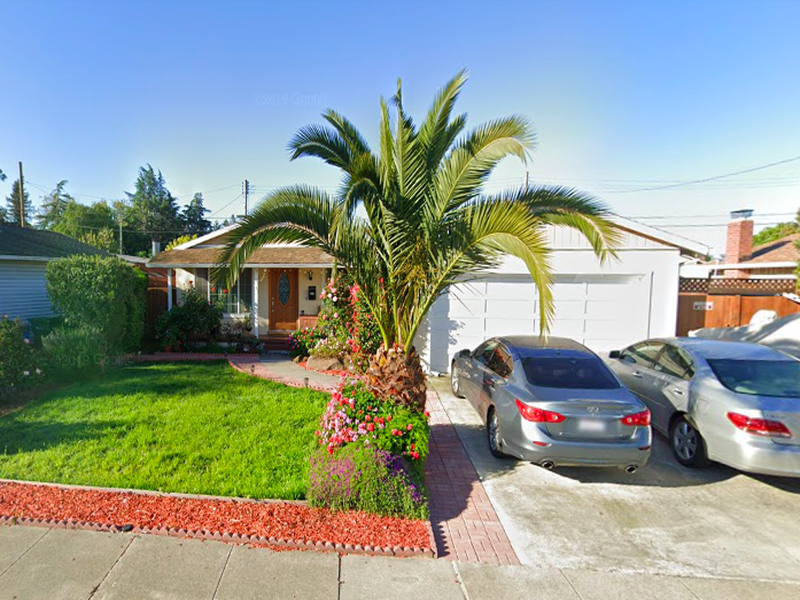tree: (210, 64, 627, 458)
